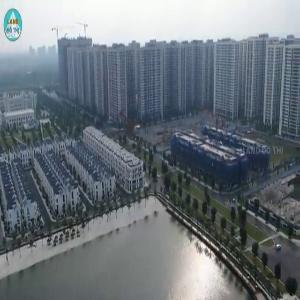drone: (67, 71, 190, 194)
